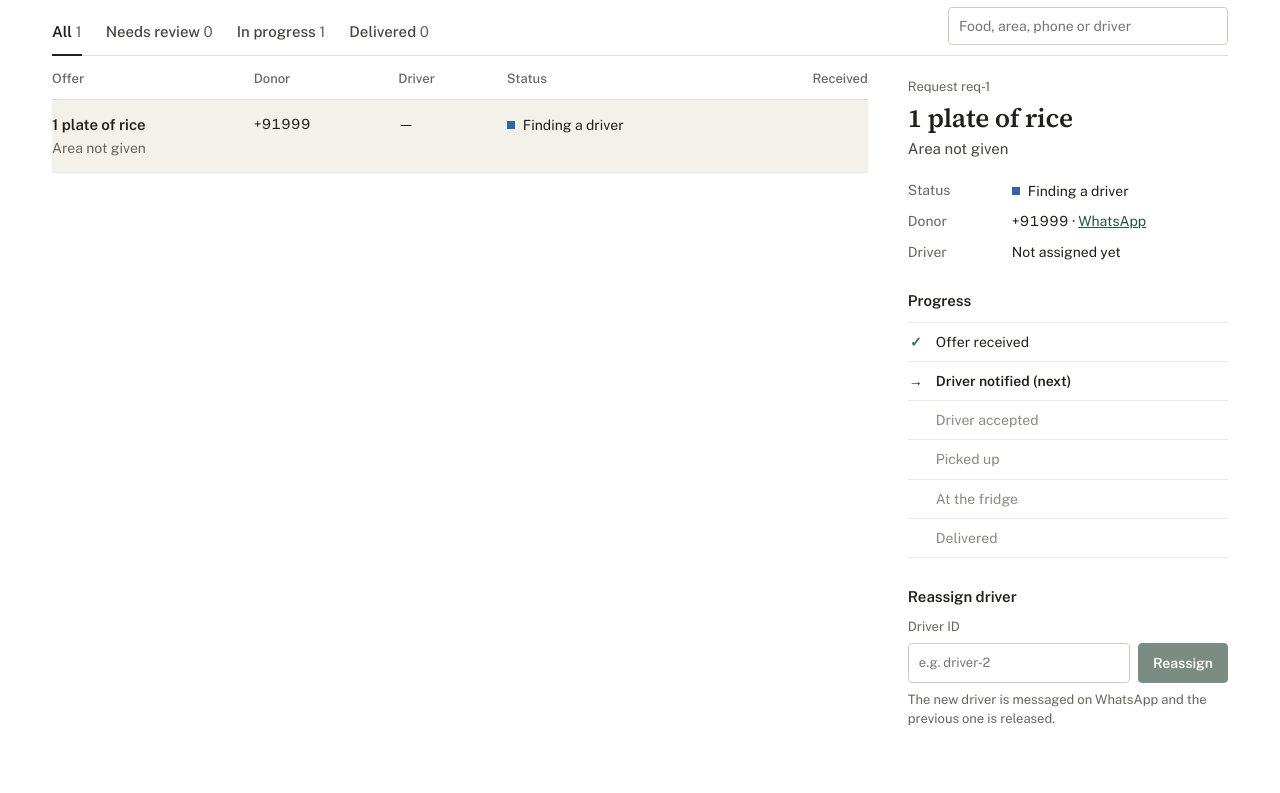
Test case: a failed reassign shows a visible error instead of swallowing it
The width and height of the screenshot is (1280, 793).
(page scrolled)
expect the text "Request req-1" is shown: met, box [908,79,990,94]
Type "driver-9" into the field labelled "Driver ID". click: (1019, 663)
box: [908,643,1130,683]
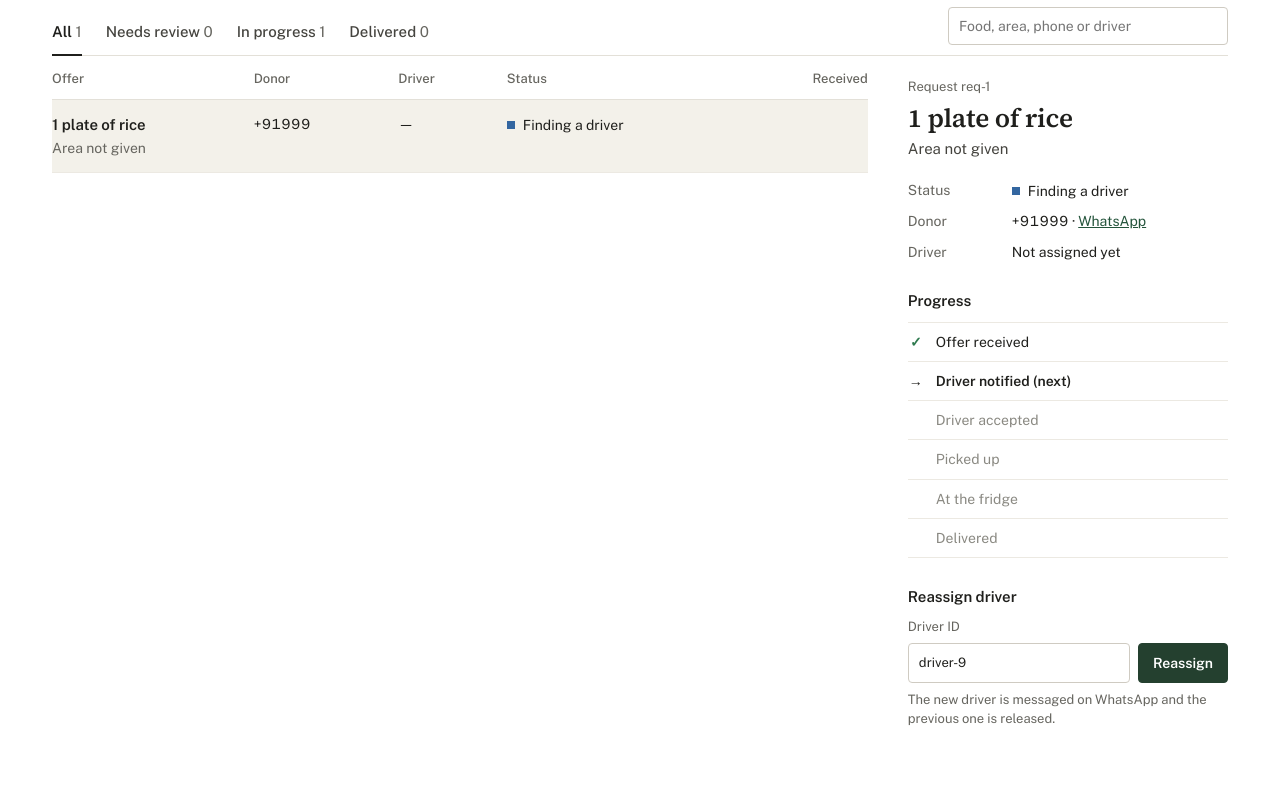
Click the button "Reassign". click: (1183, 663)
box: [1138,643,1228,683]
(page scrolled)
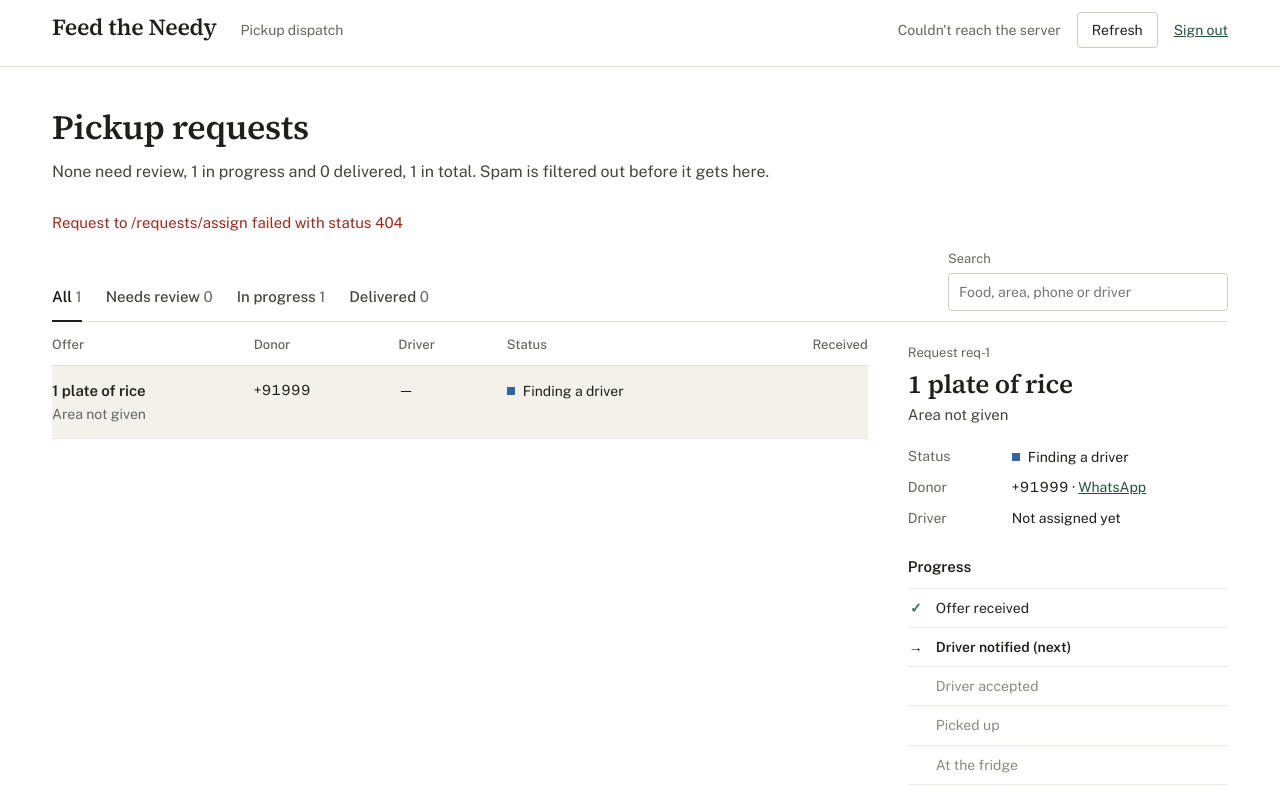
expect the message shows "404": met, box [52,214,403,232]
